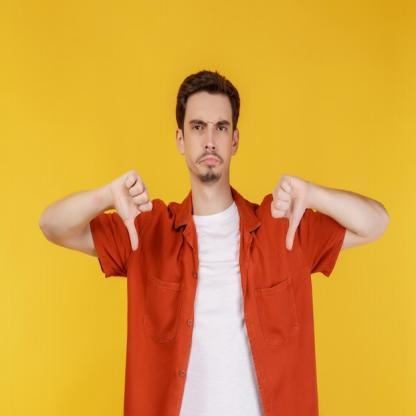thumb_down: (110, 166, 156, 254), (266, 170, 313, 254)
